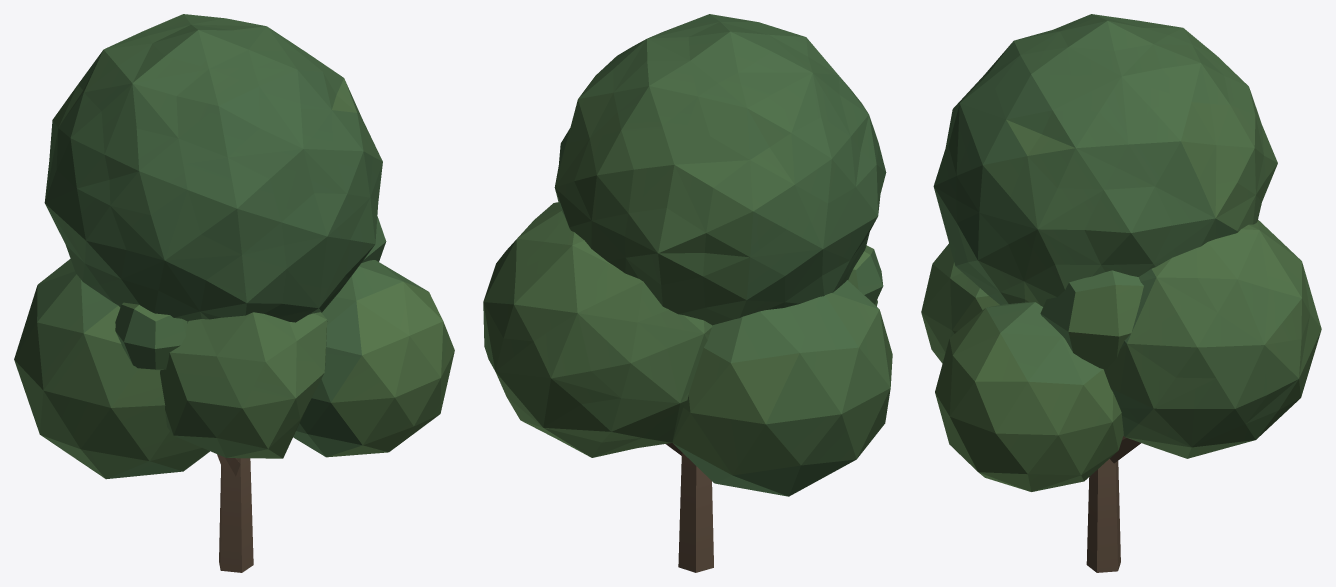
File: tree-lime-3-0.glb
3 renders of one model, left to right at view 1: azimuth 30°, elevation 25°; view 2: azimuth 150°, elevation 25°; view 3: azimuth 270°, elevation 25°, orthographic. The views are drawn at different scales.
Parts seen in each view (by area): view 1: tree-lime; view 2: tree-lime; view 3: tree-lime.
Boxes of the visible parts, bbox=[...] form: tree-lime: bbox=[14, 14, 454, 572]; tree-lime: bbox=[483, 14, 892, 572]; tree-lime: bbox=[921, 14, 1321, 572].
Bounding box in the file's own units: 3.48 × 5 × 3.43.
1 material, 1 textured.
